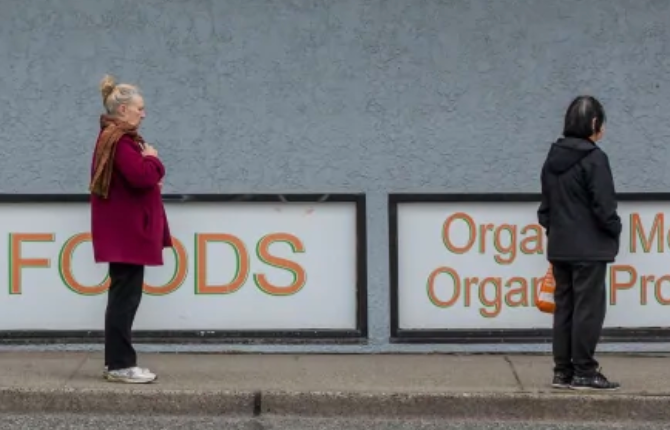Good: (89, 72, 624, 391)
